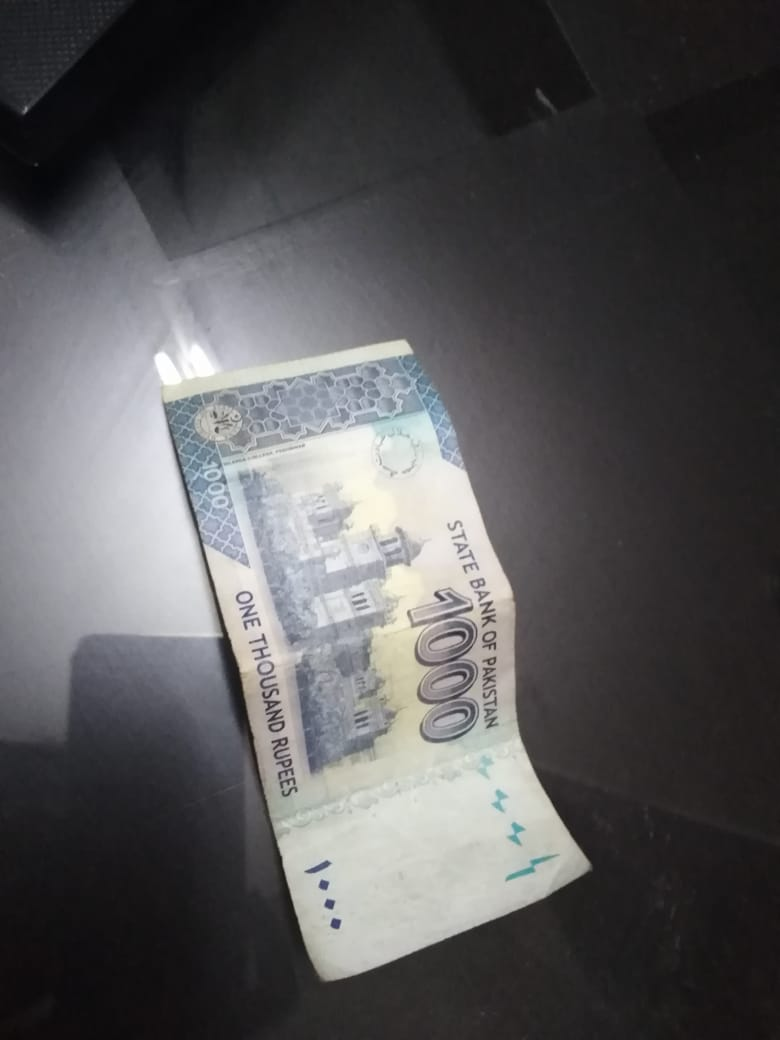1000 rupee: (116, 308, 611, 1007)
